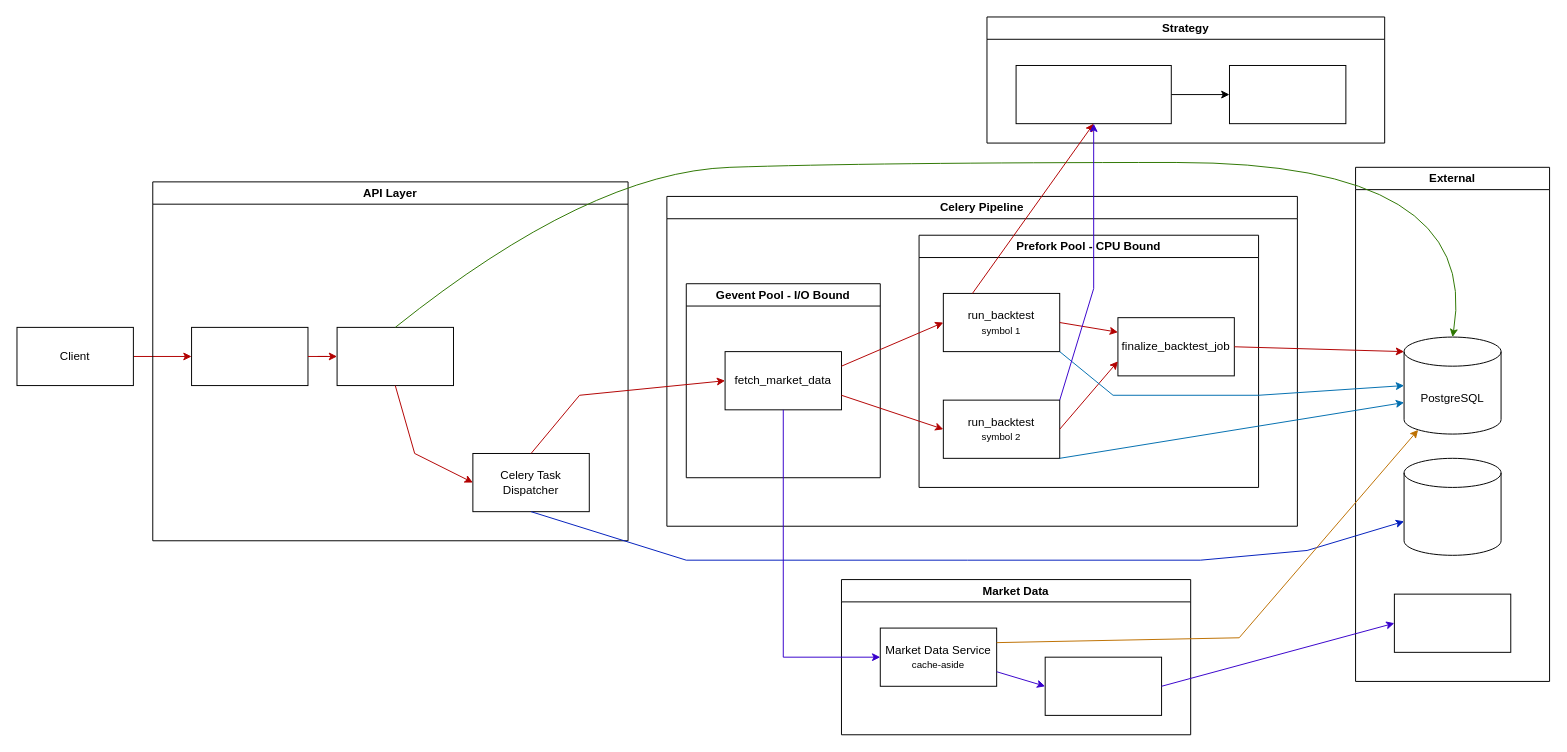
Some shapes in this 1567 by 752 pixel diagram are drawn without their labels. The shapes that lost their labels are listed below. From the top down, each one's centre as x and y in pixels, then its label:
At (x=1093, y=94): "STRATEGY_REGISTRY".
At (x=1287, y=94): "bollinger_reversion".
At (x=249, y=356): "Fast API async + uvicorn".
At (x=394, y=356): "BacktestService".
At (x=1452, y=506): "Redis".
At (x=1452, y=622): "Massive API".
At (x=1103, y=685): "Rate Limiter sliding window - 5 / 60s".
